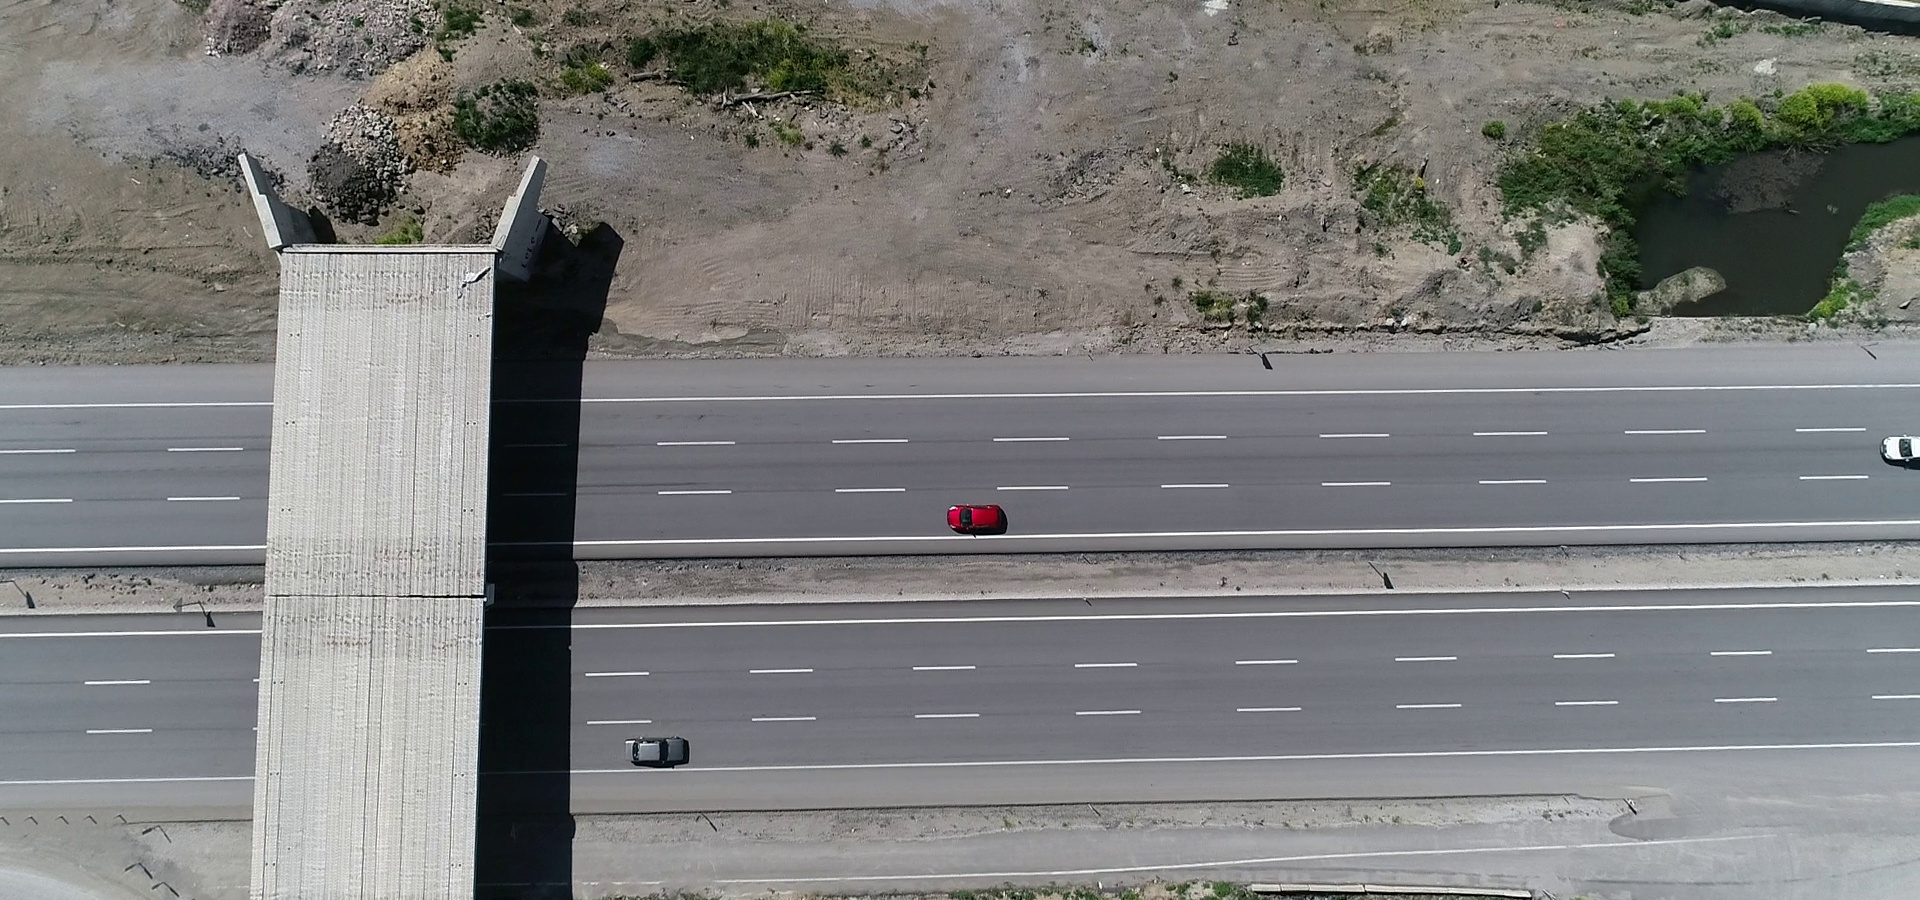arac: (940, 495, 1008, 535), (610, 733, 692, 765), (1876, 426, 1920, 465)
